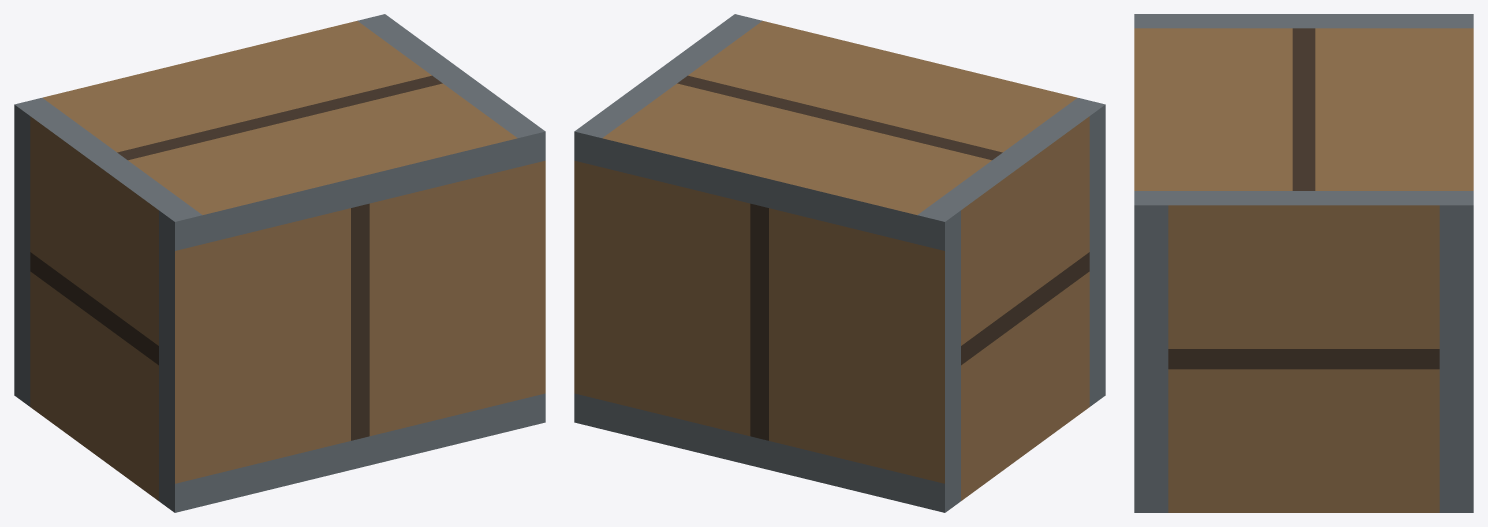
Rendered from crate_loot.glb.
3 renders of one model, left to right at view 1: azimuth 30°, elevation 25°; view 2: azimuth 150°, elevation 25°; view 3: azimuth 270°, elevation 25°, orthographic. The views are drawn at different scales.
Visible parts, largest first — view 1: crate_loot; view 2: crate_loot; view 3: crate_loot.
Part boxes in pixels (x1=…): crate_loot: x1=14, y1=14, x2=545, y2=512; crate_loot: x1=574, y1=14, x2=1105, y2=512; crate_loot: x1=1134, y1=14, x2=1473, y2=512.
Size of what is drawn, in the model's own units: 0.8 by 0.6 by 0.6.
Materials: 1 (1 with a texture image).
